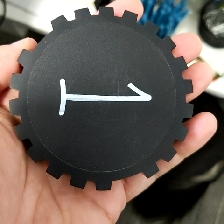gear: (7, 5, 195, 192)
missing: (17, 15, 68, 68), (93, 159, 159, 193)
